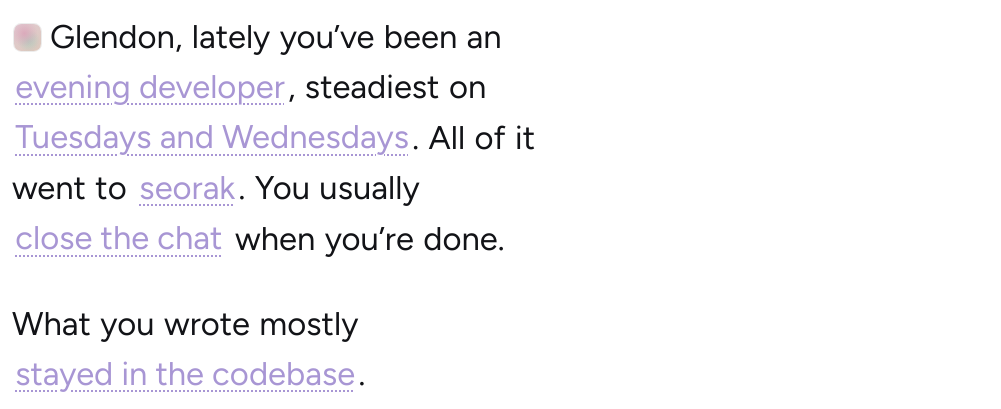
Test: ModelNarrativeRead › peek shows the gist, pinning shows the evidence › a peek carries ONE line with the count, and no citation trail
Hover over the button "evening developer" at (150, 86), box [12, 61, 288, 112]
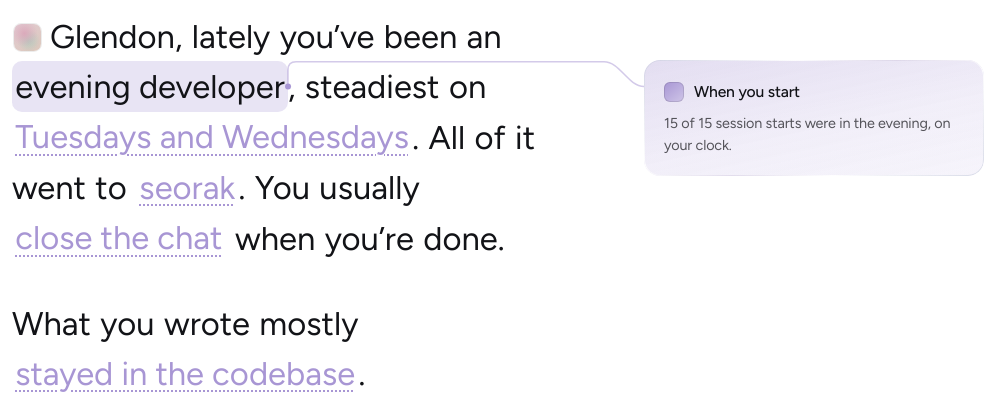
Check: the tooltip named "When you start" reads "When you start 15 of 15 session starts were in the evening, on your clock.", box [664, 114, 950, 154]
Check: the number of list items is 1, box [664, 113, 964, 156]
